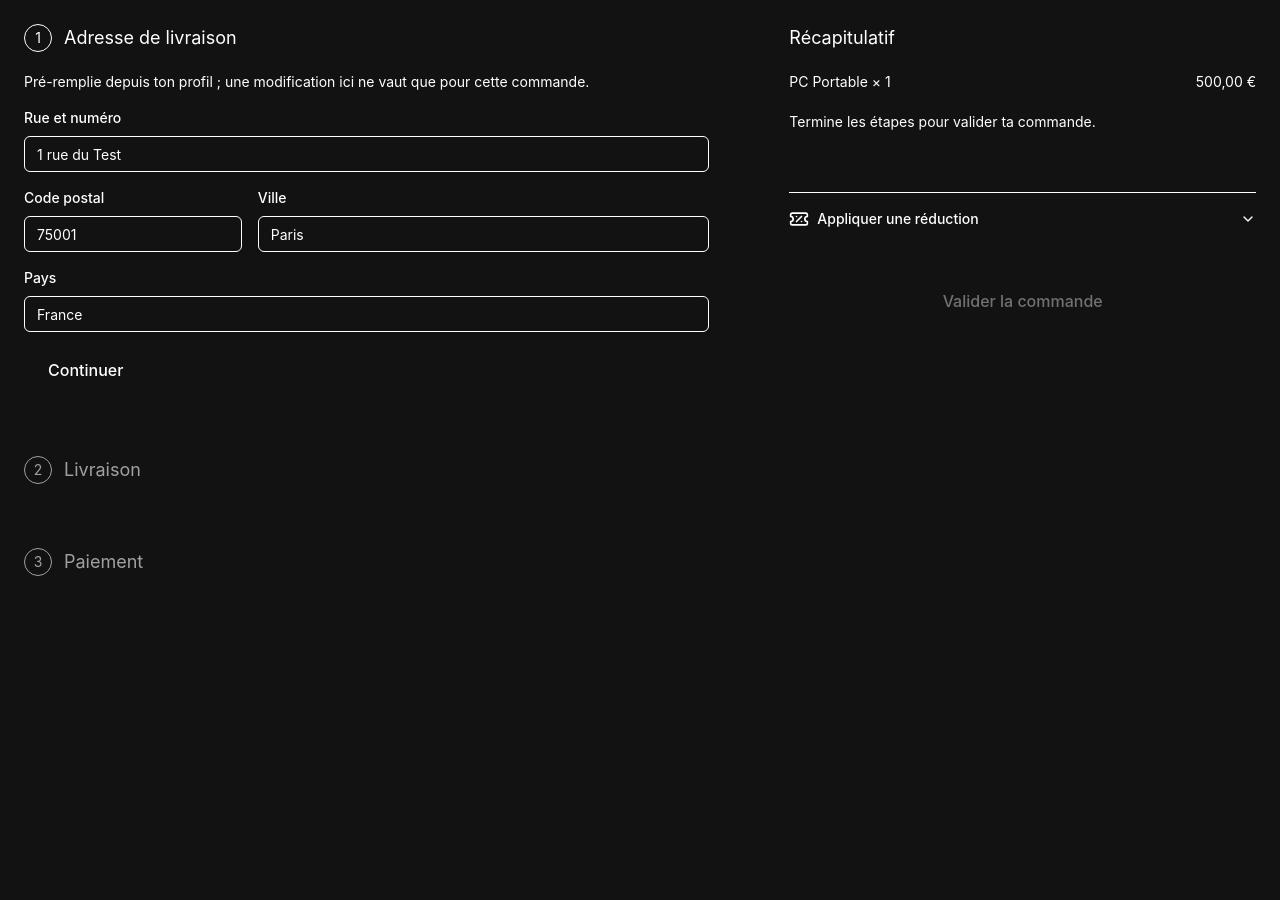
Test: CheckoutFlow › shows real prices, the estimate label and store pickup disabled
This screenshot has width=1280, height=900.
Click the button "Continuer".
click(86, 370)  # box [24,348,147,392]
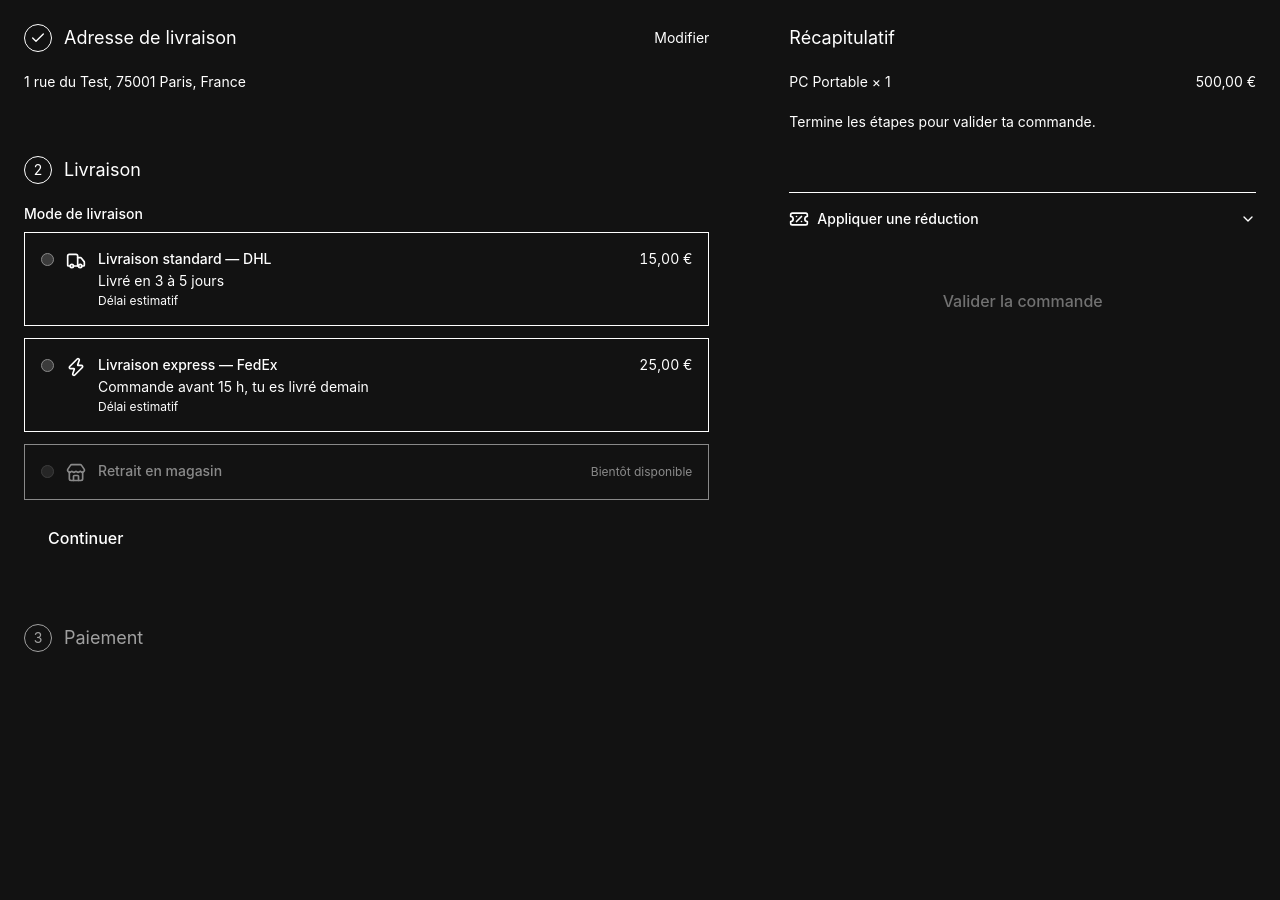
expect the label "Livraison standard — DHL" shows "15,00": met, box [639,250,692,267]
expect the label "Livraison standard — DHL" shows "Délai estimatif": met, box [98,293,178,308]
expect the radio button labelled "Retrait en magasin Bientôt disponible" is disabled: met, box [41,465,54,478]
